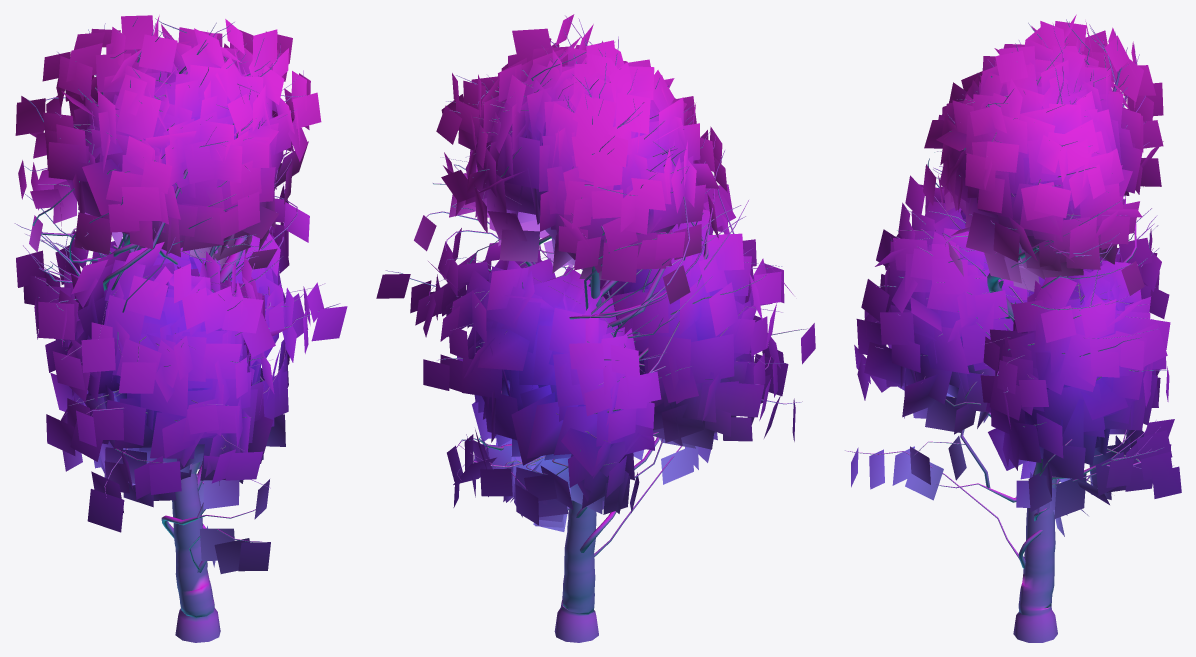
File: tree_birch_s11_a30_x10_wild.fbx
The picture shows the model from 3 angles, left to right: view 1: azimuth 30°, elevation 25°; view 2: azimuth 150°, elevation 25°; view 3: azimuth 270°, elevation 25°; orthographic projection. The views are drawn at different scales.
Visible parts, largest first — view 1: tree_birch_s11_a30_x10_wild_leaves, tree_birch_s11_a30_x10_wild_branches; view 2: tree_birch_s11_a30_x10_wild_leaves, tree_birch_s11_a30_x10_wild_branches; view 3: tree_birch_s11_a30_x10_wild_leaves, tree_birch_s11_a30_x10_wild_branches.
Boxes of the visible parts, x1,y1,x2,y2 form: tree_birch_s11_a30_x10_wild_leaves: (15,15,347,573); tree_birch_s11_a30_x10_wild_branches: (14,17,340,642); tree_birch_s11_a30_x10_wild_leaves: (376,14,815,531); tree_birch_s11_a30_x10_wild_branches: (385,15,807,642); tree_birch_s11_a30_x10_wild_leaves: (851,14,1181,536); tree_birch_s11_a30_x10_wild_branches: (845,19,1173,642).
Size of the model in its own units: 4.32 by 7.87 by 4.05.
